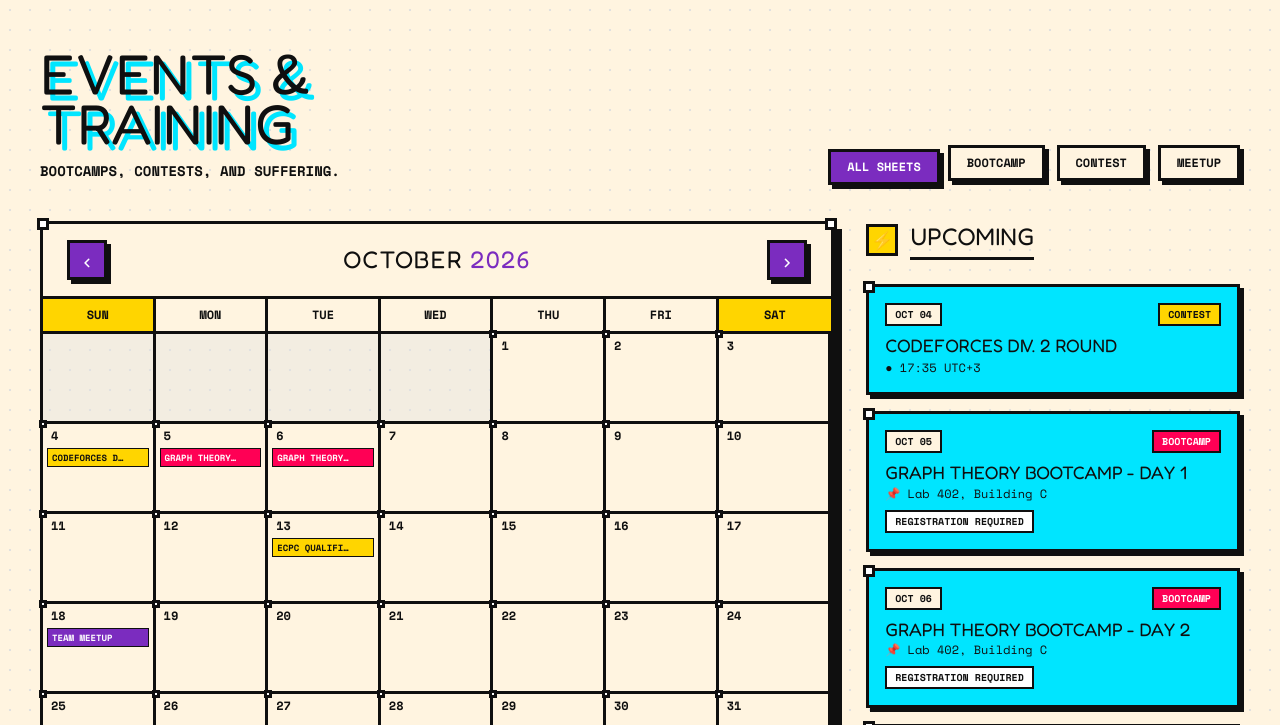
Test case: EventsPage › shows empty months when navigating to months without events
Click the button named "Next month" at [787, 260], box [767,240,807,280]
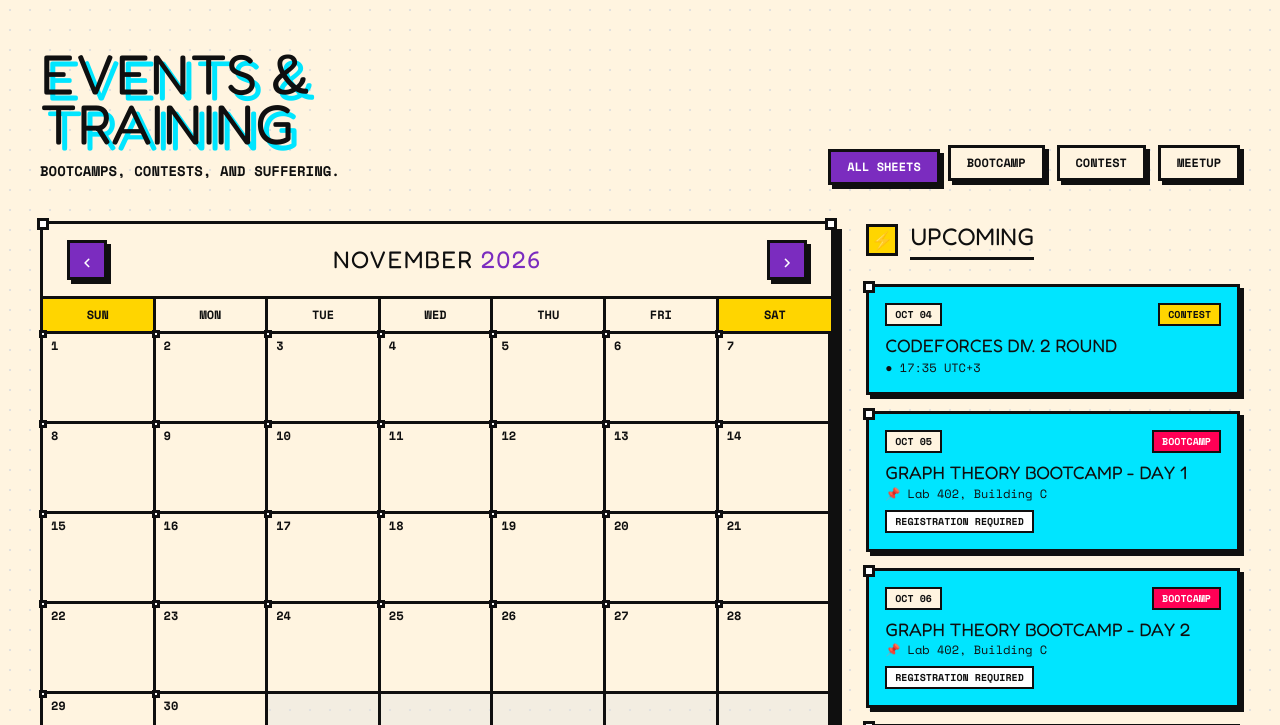
expect the heading "NOVEMBER 2026" is shown: met, box [333,244,541,276]
